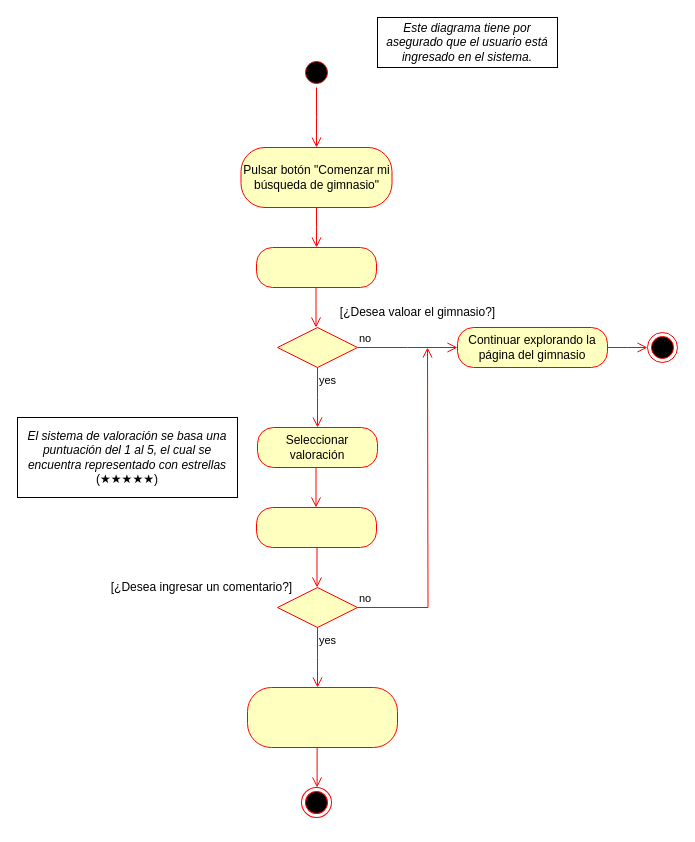
Image size: 695x842. Some labels were removed from this diagram. The shapes that lost their labels are listed below. From the top down, each one's box as (x1, y1, x2, y2) in pixels, then its label:
(256, 246, 376, 288): Elegir el gimnasio deseado y pulsar el botón "Ver más"
(256, 506, 376, 548): Valorar el gimnasio
(246, 686, 398, 748): Referirse al caso de uso "Ingresar Comentario"
